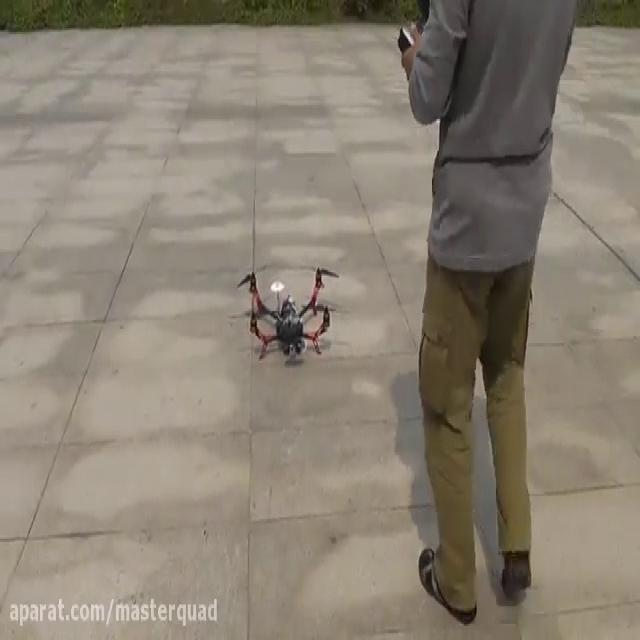drone: (235, 261, 346, 363)
